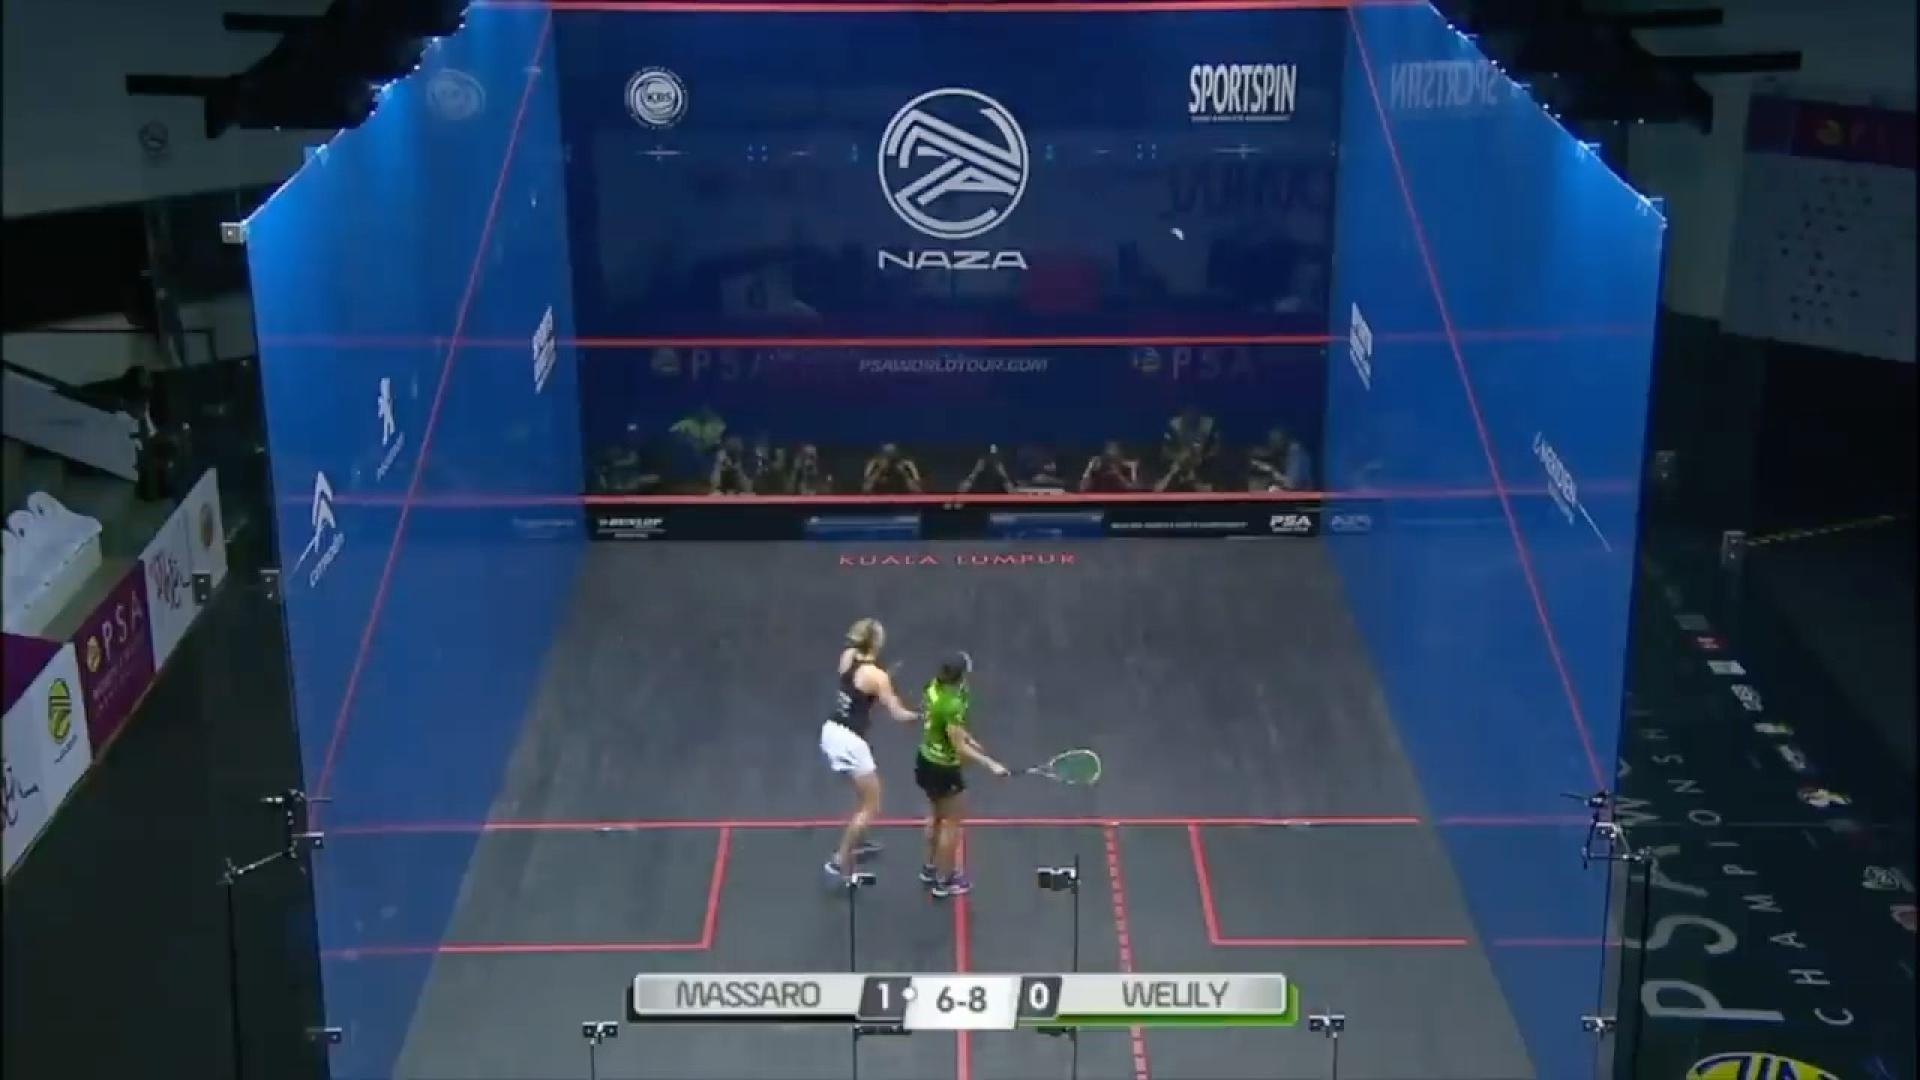Squash-Ball: (1160, 212, 1200, 262)
